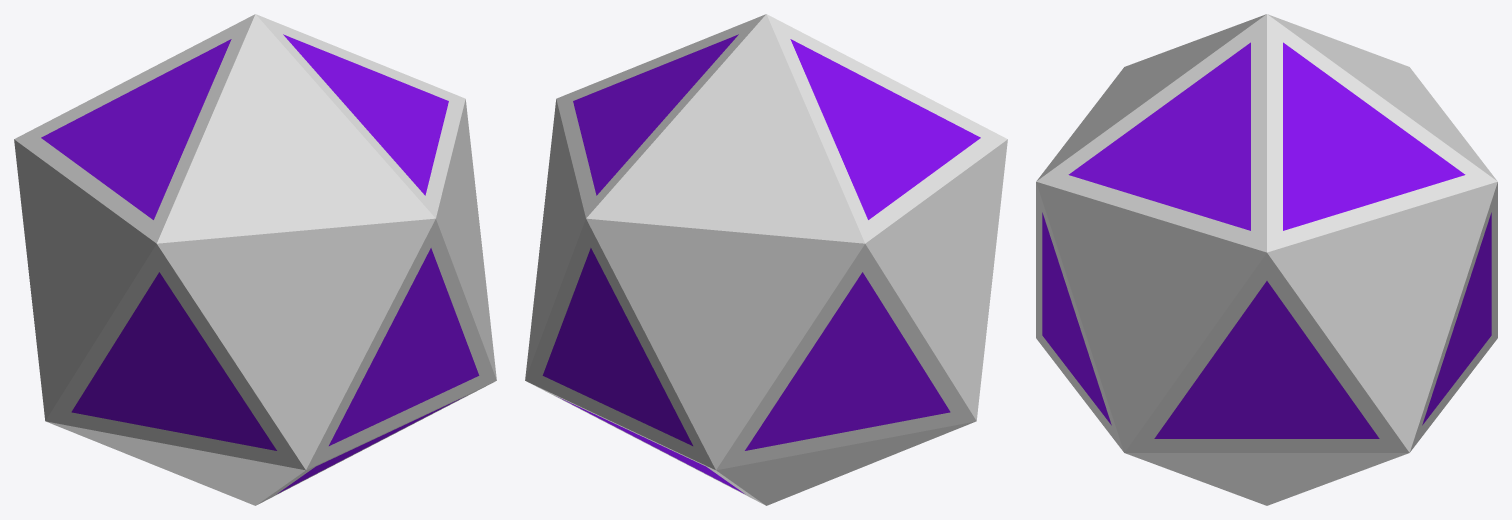
File: icos.glb
The picture shows the model from 3 angles, left to right: view 1: azimuth 30°, elevation 25°; view 2: azimuth 150°, elevation 25°; view 3: azimuth 270°, elevation 25°; orthographic projection.
Parts seen in each view (by area): view 1: Icosphere; view 2: Icosphere; view 3: Icosphere.
Boxes of the visible parts, bbox=[...] form: Icosphere: bbox=[14, 14, 496, 505]; Icosphere: bbox=[525, 14, 1007, 505]; Icosphere: bbox=[1036, 14, 1497, 505].
Size of the model in its own units: 1.79 by 2 by 1.7.
